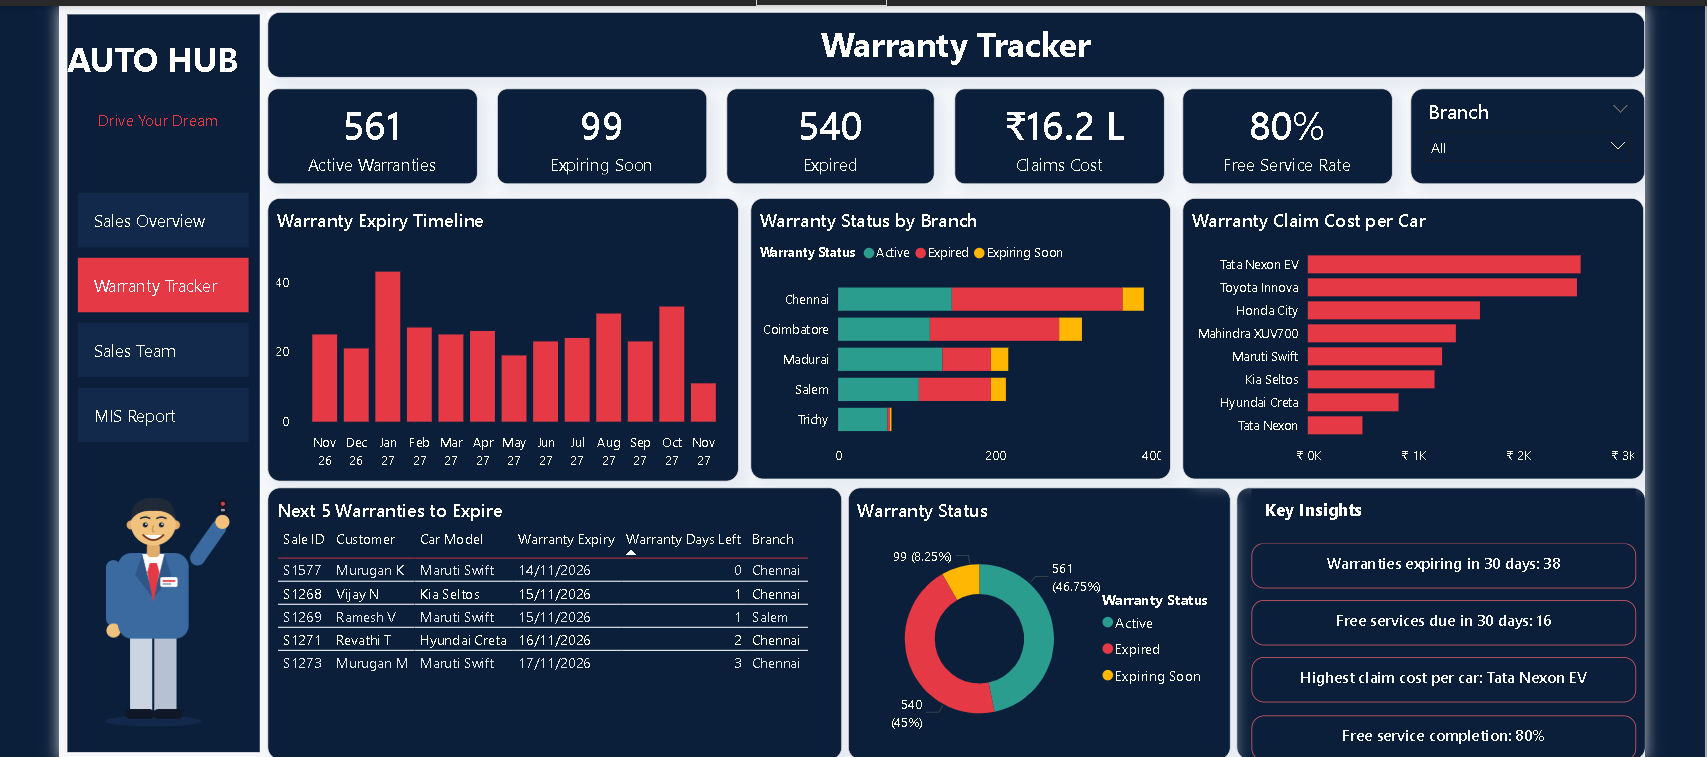

What the dashboard file says about the page in this screenshot:
{"tool":"powerbi","page":{"name":"Warranty Tracker","canvas":[1515,720],"ordinal":1},"visuals":[{"type":"group","id":"g1","title":"Group 1","box":[198.9,5.4,1315.5,62.7],"z":0},{"type":"card","fields":{"Values":["Sales.Active Warranties"]},"box":[198.9,78.9,200.7,91.4],"z":1000},{"type":"card","fields":{"Values":["Sales.Expiring Soon"]},"box":[418,78.9,200.7,91.4],"z":2000},{"type":"card","fields":{"Values":["Sales.Expired"]},"box":[637.1,78.9,198.9,91.4],"z":3000},{"type":"card","fields":{"Values":["Sales.Claims Cost L"]},"box":[854.4,78.9,200.7,91.4],"z":4000},{"type":"shape","box":[0,0,199.7,720.5],"z":5000},{"type":"textbox","box":[0,20.7,189.4,69.5],"z":6000},{"type":"slicer","fields":{"Values":["Sales.Branch"]},"box":[1290.4,78.9,224,91.4],"z":7000},{"type":"textbox","box":[0,90.2,189.4,47.3],"z":8000},{"type":"pageNavigator","box":[10.4,170.1,179,257.4],"z":9000},{"type":"image","box":[10.4,427.6,179,276.7],"z":10000},{"type":"card","fields":{"Values":["Sales.Free Service Rate"]},"box":[1073.5,78.9,200.7,91.4],"z":11000},{"type":"clusteredColumnChart","title":"Warranty Expiry Timeline","fields":{"Category":["Sales.Expiry Month"],"Y":["Sales.Cars Sold"]},"box":[198.9,182.8,449.8,270.6],"z":12000},{"type":"barChart","title":"Warranty Status by Branch","fields":{"Category":["Sales.Branch"],"Y":["Sales.Cars Sold"],"Series":["Sales.Warranty Status"]},"box":[660.4,182.8,401.5,268.8],"z":13000},{"type":"shape","box":[1123.7,460.1,390.7,259.9],"z":14000},{"type":"card","fields":{"Values":["Calendar.W Insight 1"]},"box":[1138.5,512.6,367.4,43],"z":15000},{"type":"card","fields":{"Values":["Calendar.W Insight 2"]},"box":[1138.5,567.4,367.4,43],"z":16000},{"type":"card","fields":{"Values":["Calendar.W Insight 3"]},"box":[1138.5,622.2,367.4,43],"z":17000},{"type":"textbox","box":[198.9,5.4,1315.5,62.7],"z":18000,"group":"g1"},{"type":"card","fields":{"Values":["Calendar.W Insight 4"]},"box":[1138,677.5,367.4,43],"z":18000},{"type":"tableEx","title":"Next 5 Warranties to Expire","fields":{"Values":["Sales.Sale ID","Sales.Customer","Sales.Car Model","Sales.Warranty Expiry","Sales.Warranty Days Left","Sales.Branch"]},"box":[198.9,460.1,548.4,259.9],"z":19000},{"type":"donutChart","title":"Warranty Status","fields":{"Category":["Sales.Warranty Status"],"Y":["Sales.Cars Sold"]},"box":[752.7,460.1,365.6,259.9],"z":20000},{"type":"clusteredBarChart","title":"Warranty Claim Cost per Car","fields":{"Category":["Sales.Car Model"],"Y":["Sales.Claim Cost per Car"]},"box":[1073.5,182.8,440.9,268.8],"z":21000},{"type":"textbox","box":[1138,460.6,367.4,52],"z":22000}]}

Visuals, with their boxes in screenshot pixels (x1, y1, x2, y2):
"Group 1" group: BBox(264, 6, 1625, 70)
card - Sales.Active Warranties: BBox(264, 82, 471, 176)
card - Sales.Expiring Soon: BBox(490, 82, 698, 176)
card - Sales.Expired: BBox(717, 82, 923, 176)
card - Sales.Claims Cost L: BBox(942, 82, 1150, 176)
shape: BBox(58, 0, 264, 746)
textbox: BBox(58, 21, 254, 93)
slicer - Sales.Branch: BBox(1393, 82, 1625, 176)
textbox: BBox(58, 93, 254, 142)
pageNavigator: BBox(69, 176, 254, 442)
image: BBox(69, 443, 254, 729)
card - Sales.Free Service Rate: BBox(1169, 82, 1377, 176)
"Warranty Expiry Timeline" clusteredColumnChart: BBox(264, 189, 729, 469)
"Warranty Status by Branch" barChart: BBox(741, 189, 1157, 467)
shape: BBox(1221, 476, 1625, 745)
card - Calendar.W Insight 1: BBox(1236, 531, 1617, 575)
card - Calendar.W Insight 2: BBox(1236, 587, 1617, 632)
card - Calendar.W Insight 3: BBox(1236, 644, 1617, 689)
textbox: BBox(264, 6, 1625, 70)
card - Calendar.W Insight 4: BBox(1236, 701, 1616, 746)
"Next 5 Warranties to Expire" tableEx: BBox(264, 476, 831, 745)
"Warranty Status" donutChart: BBox(837, 476, 1215, 745)
"Warranty Claim Cost per Car" clusteredBarChart: BBox(1169, 189, 1625, 467)
textbox: BBox(1236, 477, 1616, 531)
